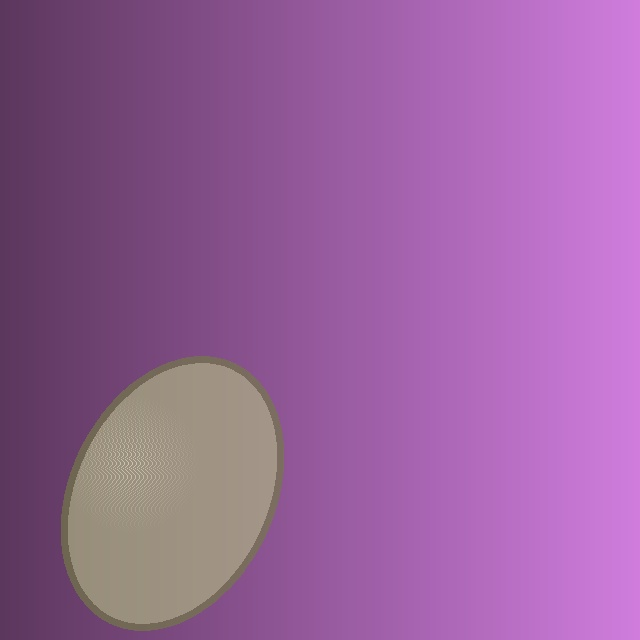lens: (64, 359, 280, 627)
